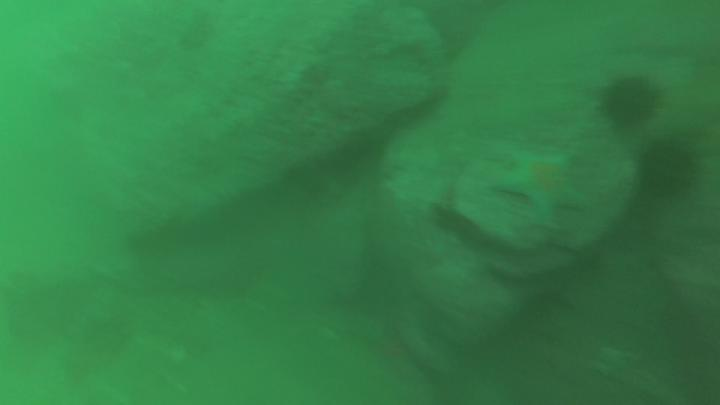echinus: (638, 147, 695, 199), (602, 81, 660, 126)
starfish: (498, 153, 590, 222)
